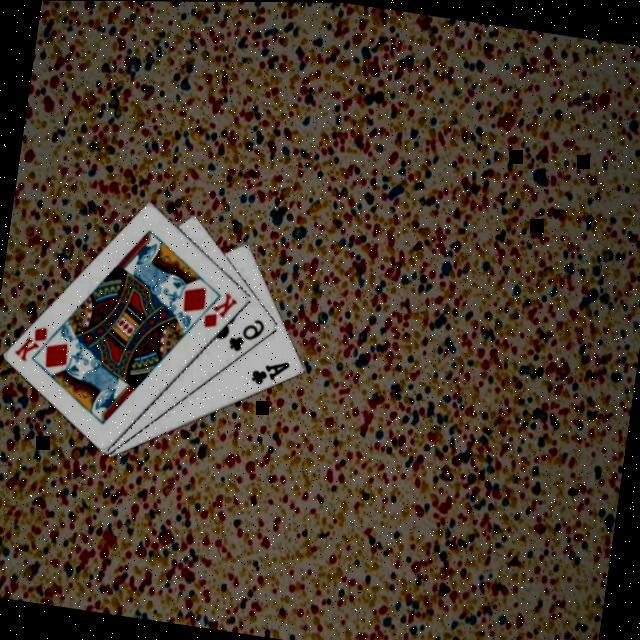6C: (223, 314, 267, 359)
AC: (246, 355, 292, 393)
KD: (198, 288, 242, 337), (9, 322, 51, 369)
